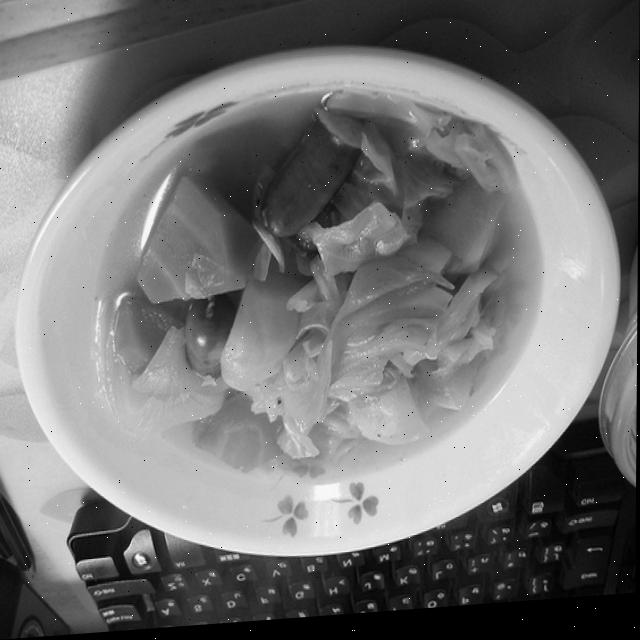汤锅炖物: (49, 68, 594, 554)
